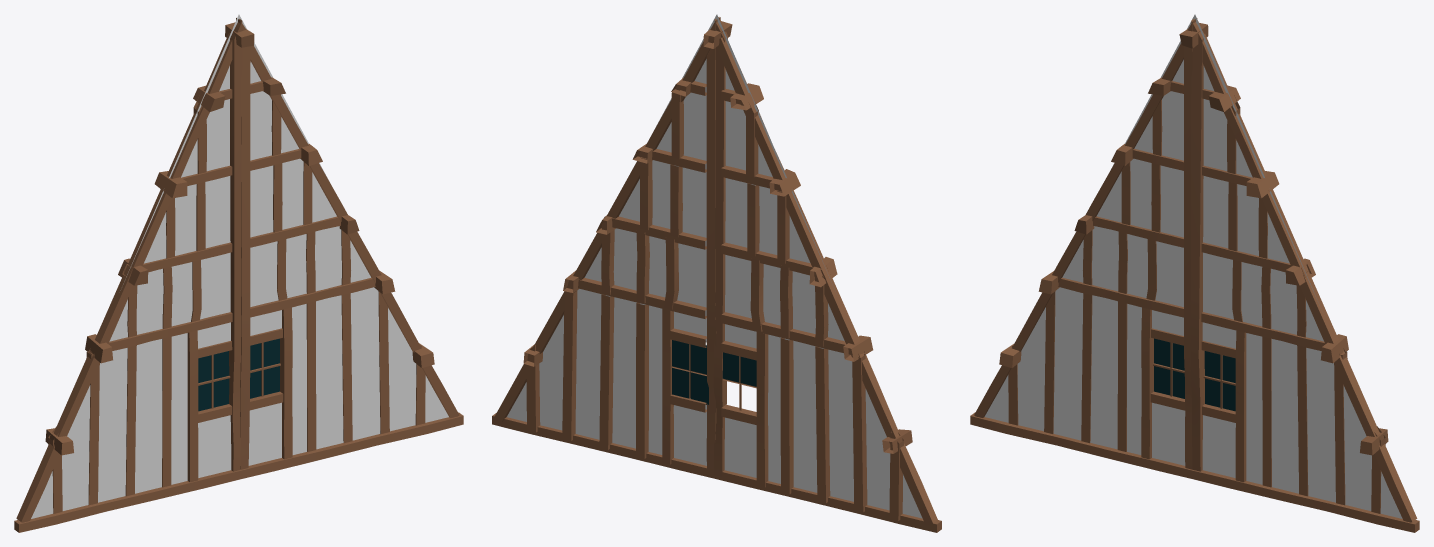
Rendered from RoofHighWall.fbx.
The picture shows the model from 3 angles, left to right: view 1: azimuth 30°, elevation 25°; view 2: azimuth 150°, elevation 25°; view 3: azimuth 330°, elevation 25°; orthographic projection.
Visible parts, largest first — view 1: WoodColumn3.017; view 2: WoodColumn3.017; view 3: WoodColumn3.017.
Part boxes in pixels (x1,y1,x2,y2): WoodColumn3.017: (14,14,463,532); WoodColumn3.017: (492,14,941,532); WoodColumn3.017: (970,14,1419,532).
Size of the model in its own units: 605 by 602 by 41.84.
